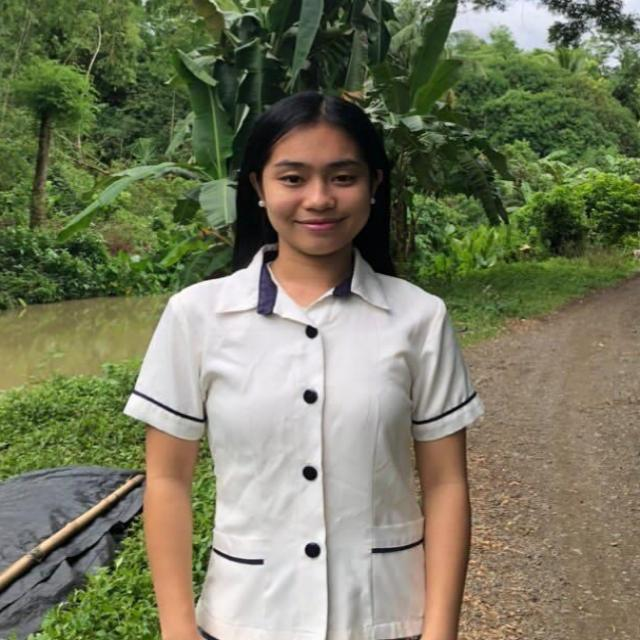education_female_uniform: (101, 213, 539, 640)
